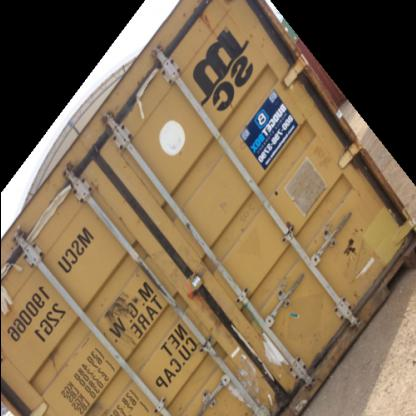Damage: (206, 312, 306, 410), (314, 224, 377, 280), (96, 298, 138, 364), (121, 66, 153, 144), (296, 126, 332, 172), (229, 184, 255, 244), (42, 336, 66, 398), (179, 7, 217, 43)
